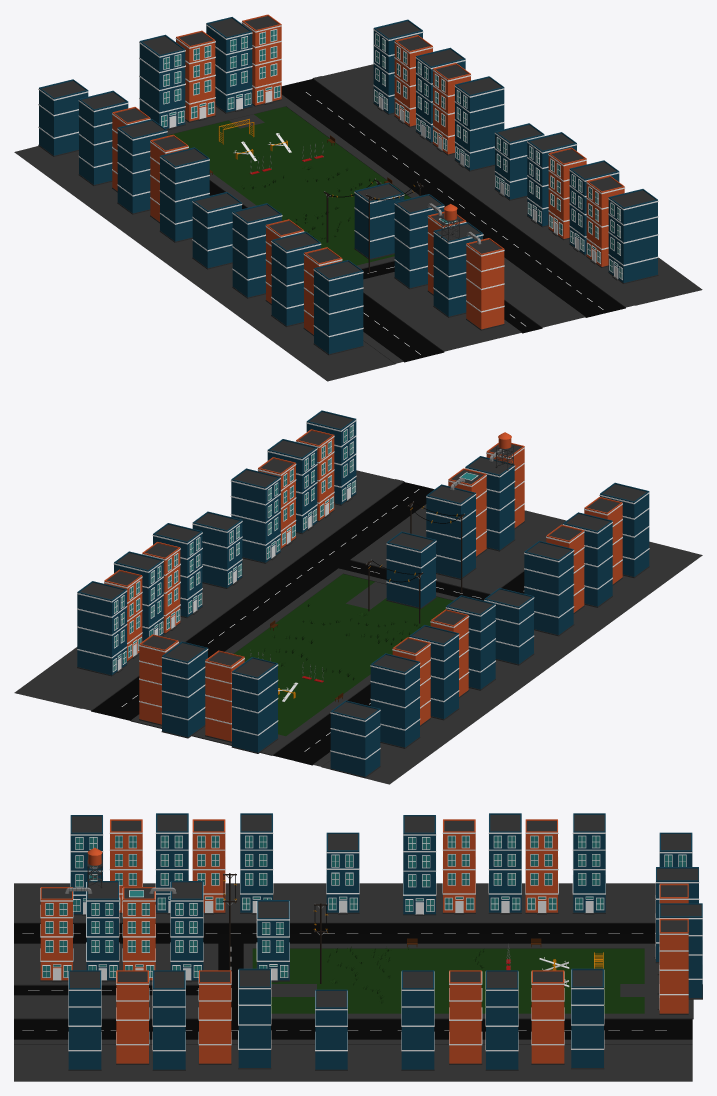
Rendered from level2_environment_rooftop_park.fbx.
3 renders of one model, top to bottom at view 1: azimuth 30°, elevation 25°; view 2: azimuth 150°, elevation 25°; view 3: azimuth 270°, elevation 25°, orthographic. The views are drawn at different scales.
Visible parts, largest first — view 1: calles01, builds, Box031, Box027, build005, Box022, Box002, Box012, Box003, build001, Box021, Box023 (+14 smaller); view 2: calles01, builds, build006, build005, build008, Box012, Box022, build001, build007, Box003, Box031, Box021 (+14 smaller); view 3: calles01, builds, build006, build008, Box027, Box031, Box025, Box029, Box024, Box019, Box017, Box026 (+15 smaller).
Boxes of the visible parts, left/top/right/bottom form: calles01: left=14, top=64, right=702, bottom=381; builds: left=38, top=79, right=363, bottom=355; Box031: left=608, top=189, right=658, bottom=283; Box027: left=454, top=76, right=504, bottom=171; build005: left=139, top=34, right=185, bottom=129; Box022: left=206, top=17, right=252, bottom=113; Box002: left=466, top=238, right=504, bottom=330; Box012: left=394, top=194, right=444, bottom=289; Box003: left=433, top=222, right=483, bottom=317; build001: left=354, top=182, right=404, bottom=259; Box021: left=175, top=30, right=215, bottom=122; Box023: left=241, top=14, right=281, bottom=106; calles01: left=14, top=470, right=702, bottom=784; builds: left=330, top=482, right=649, bottom=777; build006: left=77, top=581, right=127, bottom=676; build005: left=231, top=657, right=278, bottom=753; build008: left=230, top=468, right=280, bottom=563; Box012: left=426, top=484, right=476, bottom=579; Box022: left=161, top=641, right=208, bottom=738; build001: left=386, top=531, right=436, bottom=609; build007: left=192, top=511, right=242, bottom=588; Box003: left=465, top=456, right=515, bottom=551; Box031: left=306, top=410, right=356, bottom=505; Box021: left=205, top=650, right=244, bottom=742; calles01: left=14, top=883, right=693, bottom=1081; builds: left=70, top=813, right=692, bottom=915; build006: left=571, top=968, right=604, bottom=1069; build008: left=238, top=968, right=271, bottom=1069; Box027: left=401, top=970, right=434, bottom=1070; Box031: left=68, top=970, right=101, bottom=1070; Box025: left=485, top=970, right=518, bottom=1070; Box029: left=152, top=970, right=185, bottom=1070; Box024: left=531, top=970, right=564, bottom=1064; Box019: left=525, top=819, right=558, bottom=914; Box017: left=442, top=819, right=475, bottom=914; Box026: left=449, top=970, right=482, bottom=1064.
Size of the model in its own units: 20628 by 7608 by 30276.
